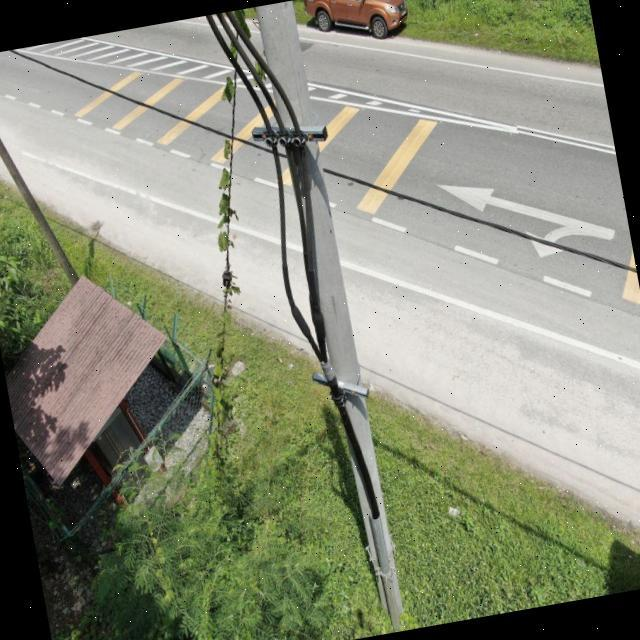critical vegetation: (96, 14, 342, 552)
